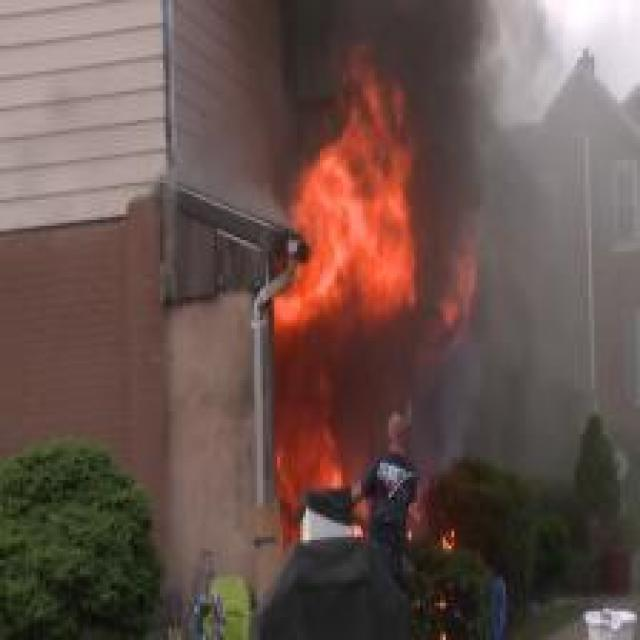Fire: (273, 46, 476, 540)
